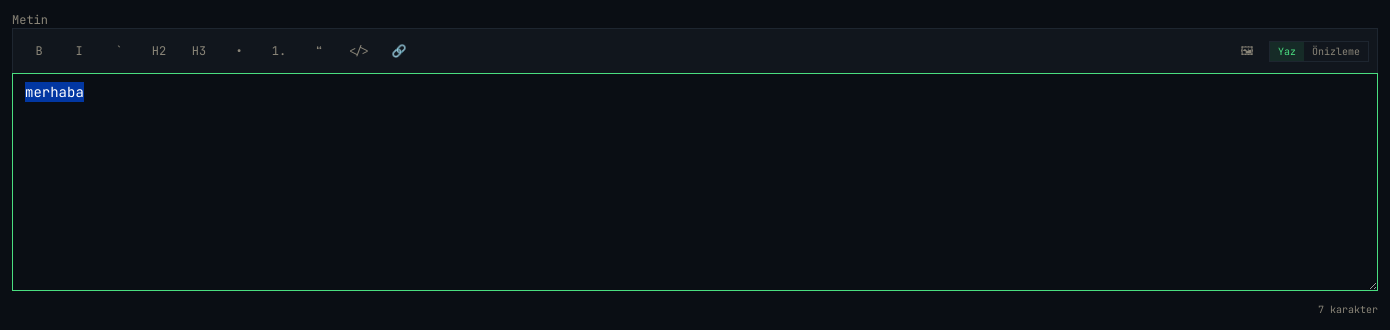
Test case: bold wraps selection
Click the button named "Kalın".
click(39, 51)  # box [21, 33, 57, 69]
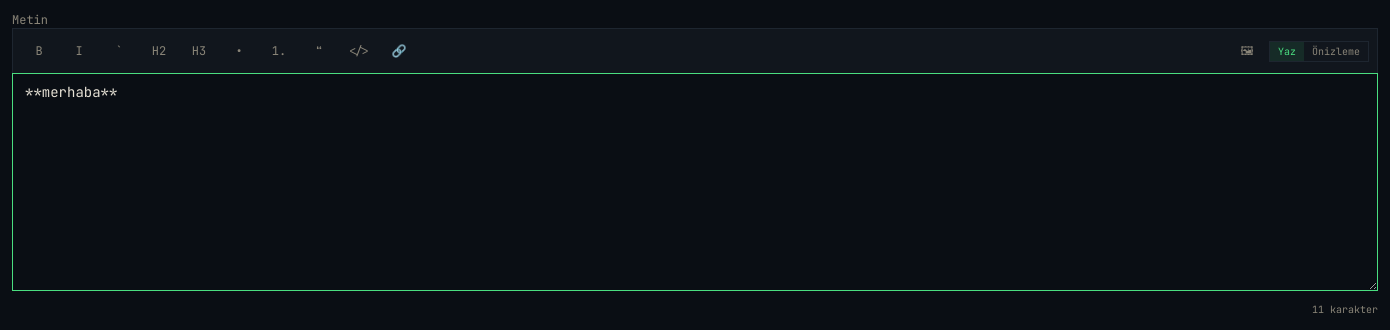
Now the text box named "Metin" holds "**merhaba**"
